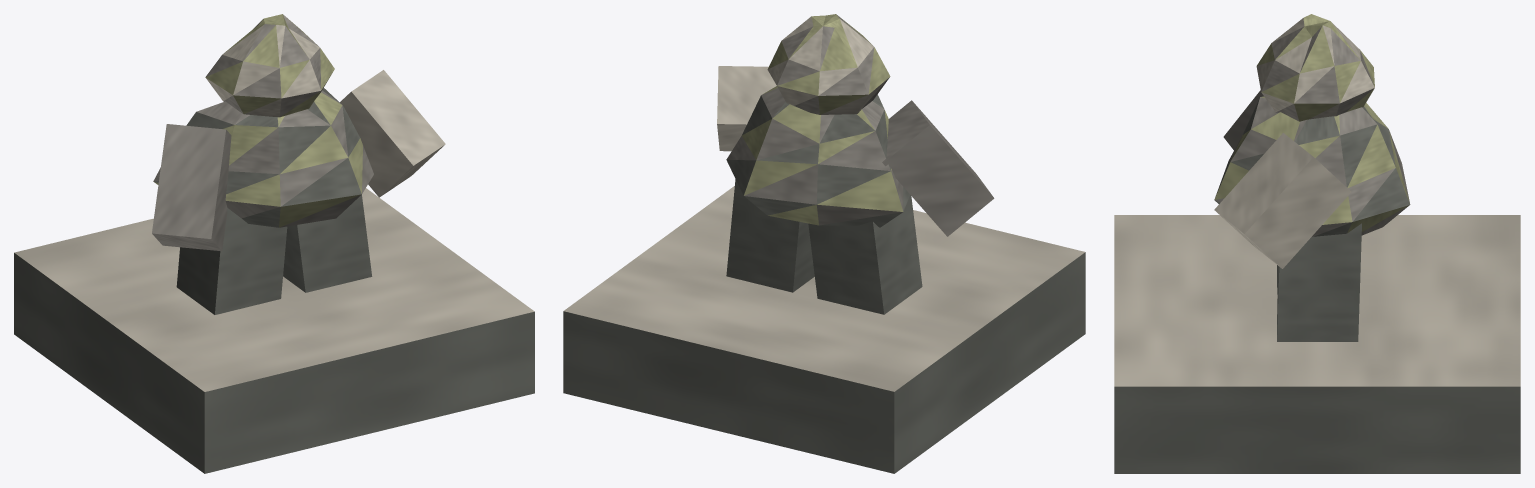
The model's file is shrine_small.fbx.
The picture shows the model from 3 angles, left to right: view 1: azimuth 30°, elevation 25°; view 2: azimuth 150°, elevation 25°; view 3: azimuth 270°, elevation 25°; orthographic projection. The views are drawn at different scales.
Parts seen in each view (by area): view 1: shrine_small; view 2: shrine_small; view 3: shrine_small.
Part boxes in pixels (x1=…): shrine_small: x1=14, y1=14, x2=534, y2=473; shrine_small: x1=563, y1=14, x2=1085, y2=473; shrine_small: x1=1114, y1=14, x2=1520, y2=473.
Size of the model in its own units: 300 by 300 by 300.
1 material, 1 textured.
